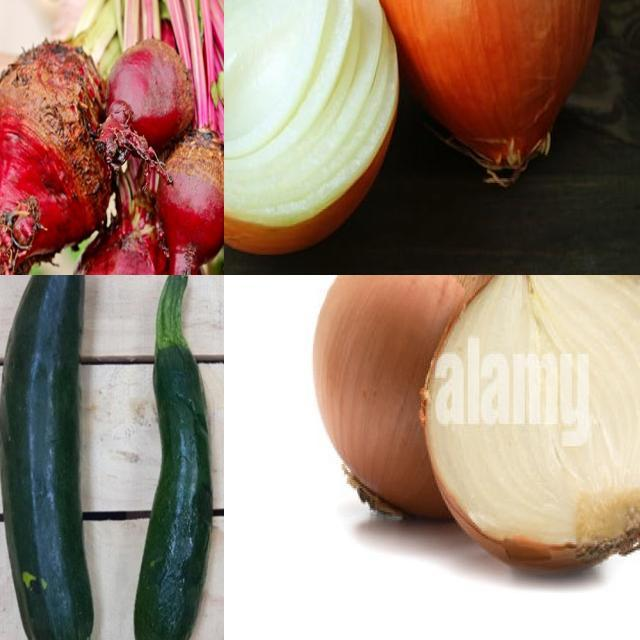beet: (1, 42, 106, 265), (158, 141, 225, 272), (114, 43, 196, 141)
onion: (422, 276, 640, 572), (308, 276, 533, 538), (225, 1, 402, 265), (368, 1, 602, 183)
zucchini: (1, 276, 137, 640)
